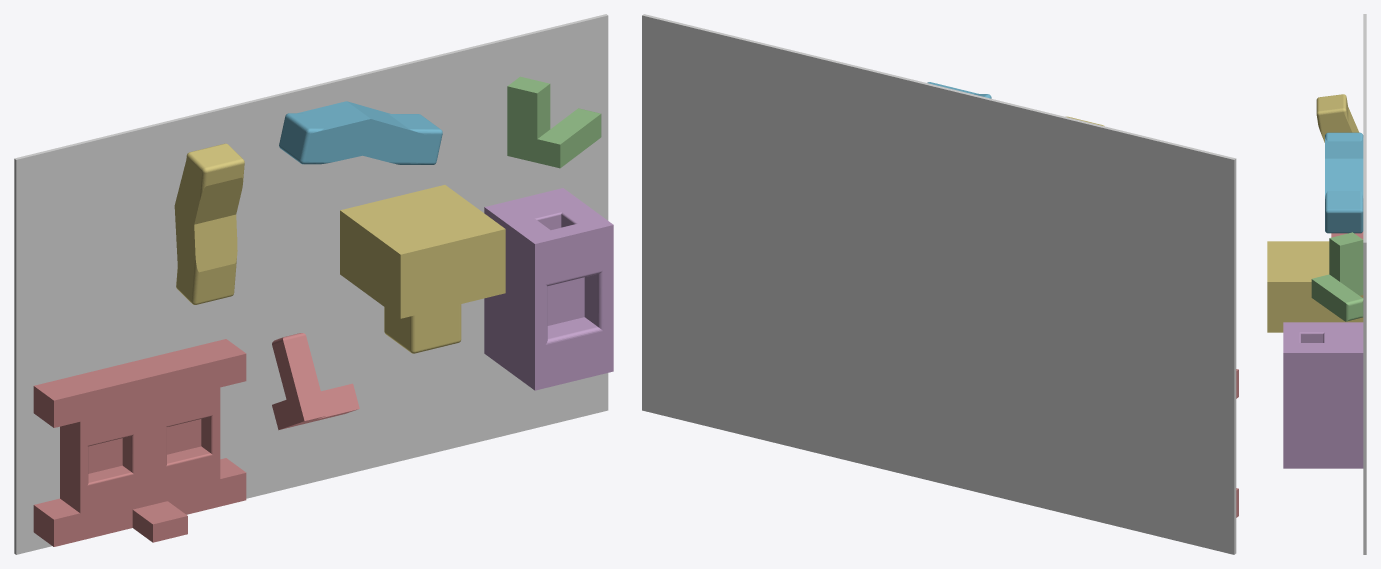
The model's file is pickup_layout.glb.
The picture shows the model from 3 angles, left to right: view 1: azimuth 30°, elevation 25°; view 2: azimuth 150°, elevation 25°; view 3: azimuth 270°, elevation 25°; orthographic projection. The views are drawn at different scales.
Visible parts, largest first — view 1: world, 0.obj, 3.obj, 6.obj, 1.obj, 2.obj, 4.obj, 5.obj; view 2: world; view 3: 3.obj, 6.obj, 2.obj, 4.obj, world, 1.obj.
Part boxes in pixels (x1,y1,x2,y2): world: (14,14,608,554); 0.obj: (33,339,246,546); 3.obj: (484,188,613,390); 6.obj: (340,185,505,353); 1.obj: (174,143,244,304); 2.obj: (279,101,442,164); 4.obj: (507,76,601,168); 5.obj: (272,333,359,430); world: (642,14,1236,554); 3.obj: (1283,322,1363,468); 6.obj: (1267,241,1363,332); 2.obj: (1325,132,1363,233); 4.obj: (1311,232,1363,321); world: (1363,14,1366,554); 1.obj: (1316,94,1359,142).
Size of the model in its own units: 33.83 by 21.56 by 6.2.
